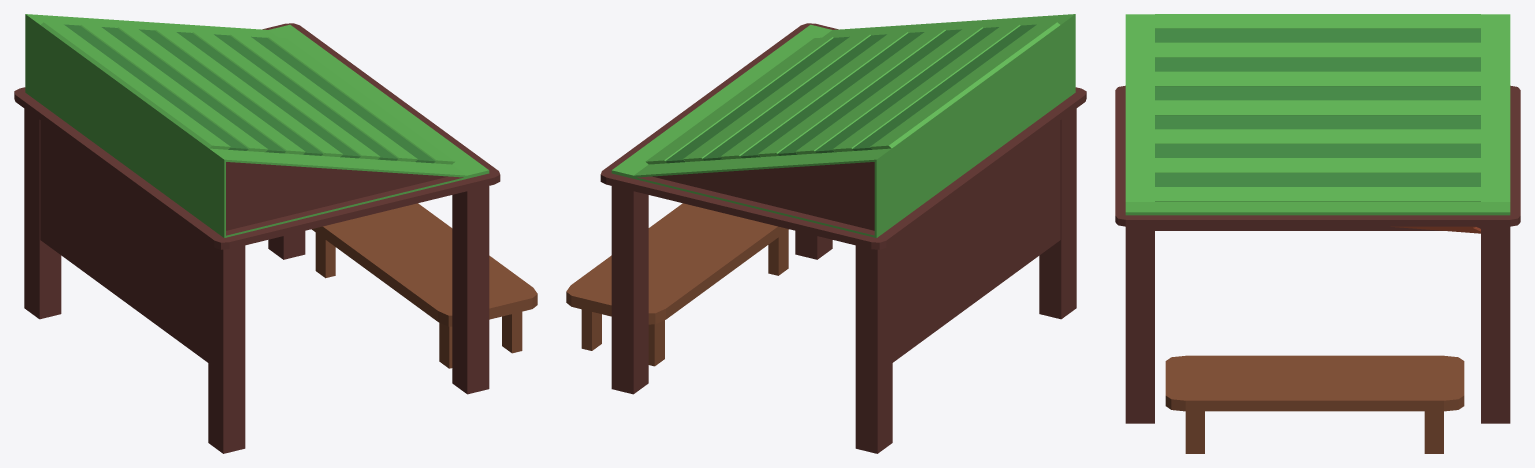
File: tintoreria.fbx
The picture shows the model from 3 angles, left to right: view 1: azimuth 30°, elevation 25°; view 2: azimuth 150°, elevation 25°; view 3: azimuth 270°, elevation 25°; orthographic projection. The views are drawn at different scales.
Visible parts, largest first — view 1: caseta_tintoreria, mostrador; view 2: caseta_tintoreria, mostrador; view 3: caseta_tintoreria, mostrador.
Part boxes in pixels (left/top/right/bottom): caseta_tintoreria: left=14, top=14, right=500, bottom=453; mostrador: left=312, top=203, right=537, bottom=368; caseta_tintoreria: left=600, top=14, right=1086, bottom=453; mostrador: left=566, top=203, right=788, bottom=366; caseta_tintoreria: left=1115, top=14, right=1520, bottom=423; mostrador: left=1165, top=355, right=1464, bottom=453.
Size of the model in its own units: 621 by 503 by 645.
